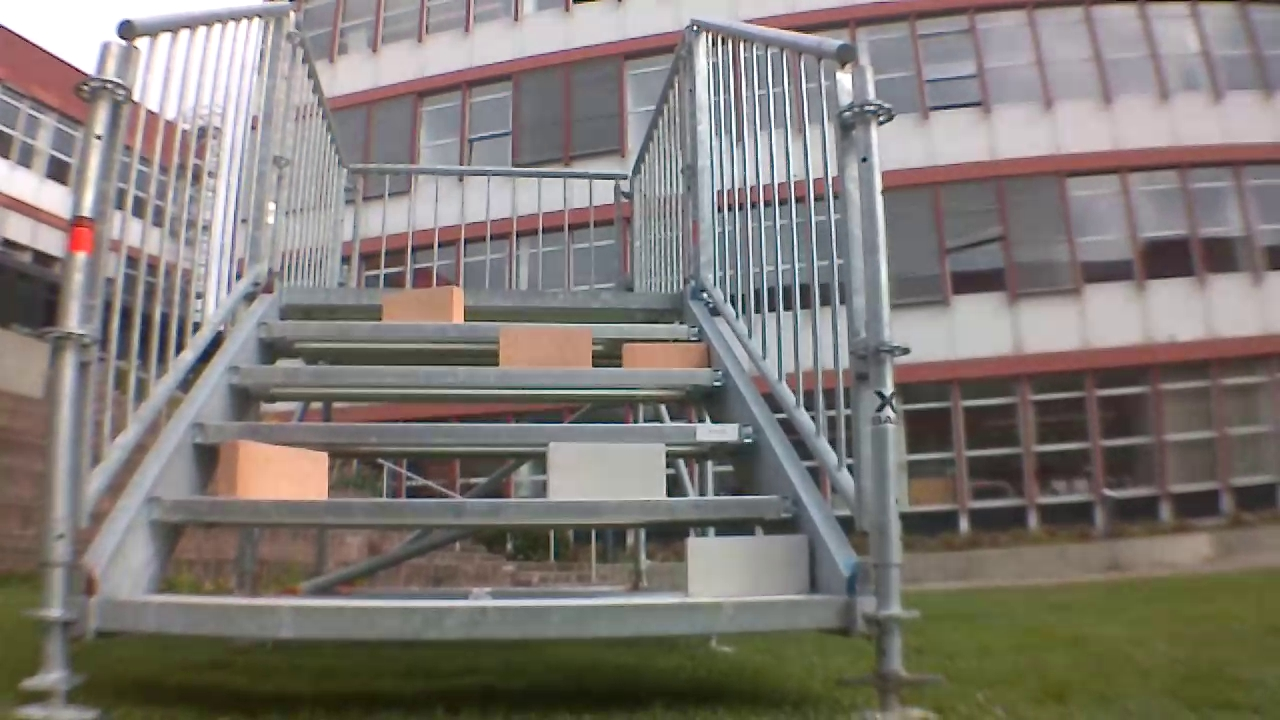brick: (686, 536, 808, 596), (544, 443, 664, 498), (220, 439, 327, 499), (499, 327, 592, 366), (382, 286, 463, 324), (621, 343, 708, 367)
edge: (100, 599, 846, 633), (149, 497, 794, 522), (192, 422, 758, 444), (230, 365, 722, 384), (255, 319, 699, 340), (285, 288, 682, 306)
stairs: (11, 1, 940, 716)
steps: (96, 282, 852, 642)
